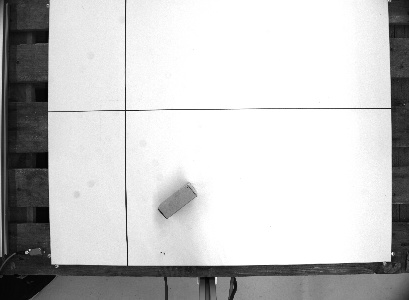b1: (156, 181, 199, 221)
